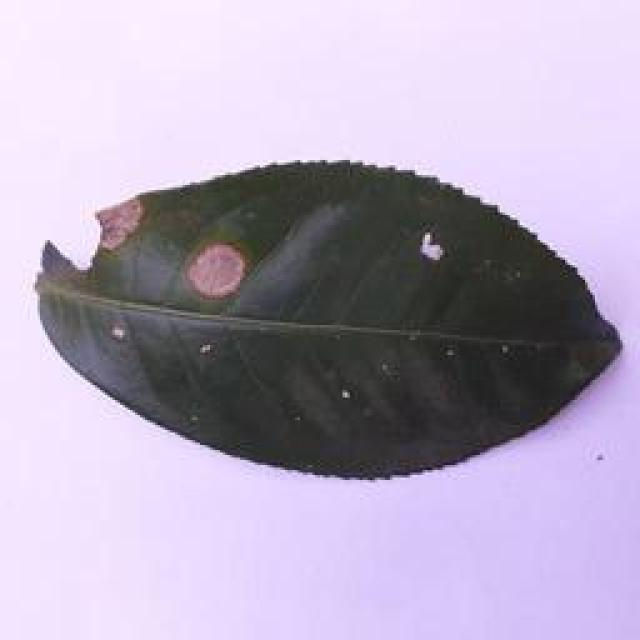Gray Blight: (33, 155, 626, 480)
